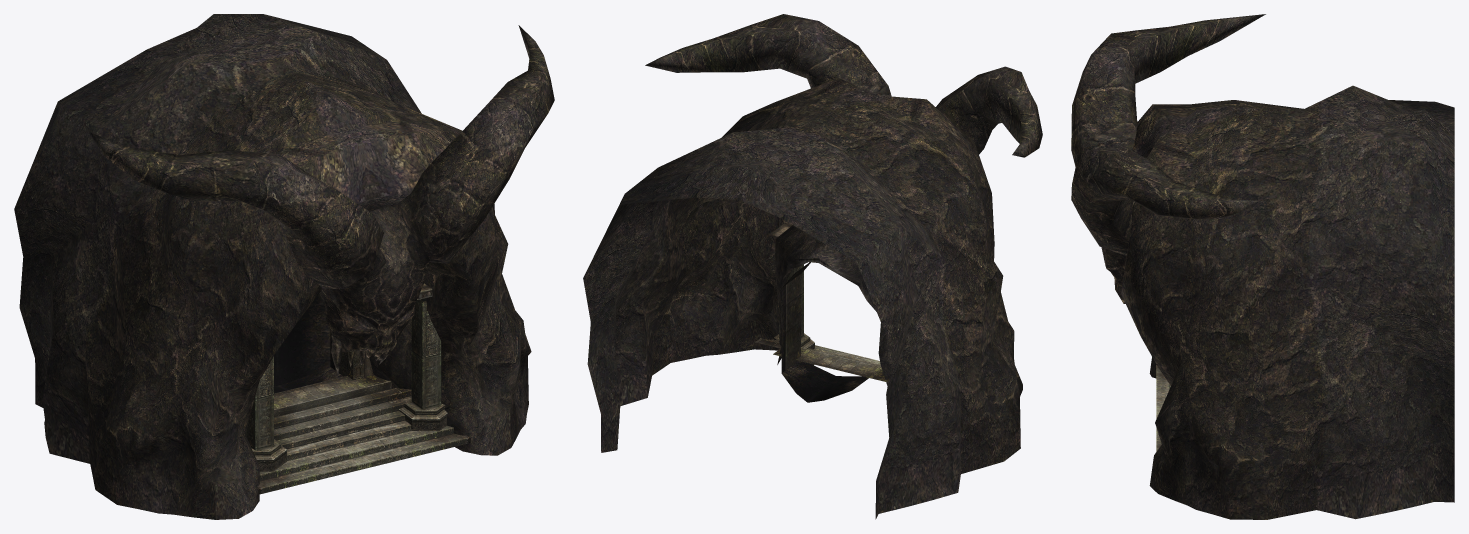
The model's file is devil_entrance.fbx.
The picture shows the model from 3 angles, left to right: view 1: azimuth 30°, elevation 25°; view 2: azimuth 150°, elevation 25°; view 3: azimuth 270°, elevation 25°; orthographic projection. The views are drawn at different scales.
Parts seen in each view (by area): view 1: anglar_wall1_lm03, Object09; view 2: anglar_wall1_lm03, Object09; view 3: anglar_wall1_lm03, Object09.
Part boxes in pixels (bbox=[...]): anglar_wall1_lm03: bbox=[14, 14, 554, 519]; Object09: bbox=[245, 283, 470, 494]; anglar_wall1_lm03: bbox=[583, 14, 1042, 519]; Object09: bbox=[755, 222, 888, 402]; anglar_wall1_lm03: bbox=[1071, 14, 1454, 519]; Object09: bbox=[1156, 364, 1170, 451].
Bounding box in the file's own units: 23.62 × 20.04 × 20.42.
